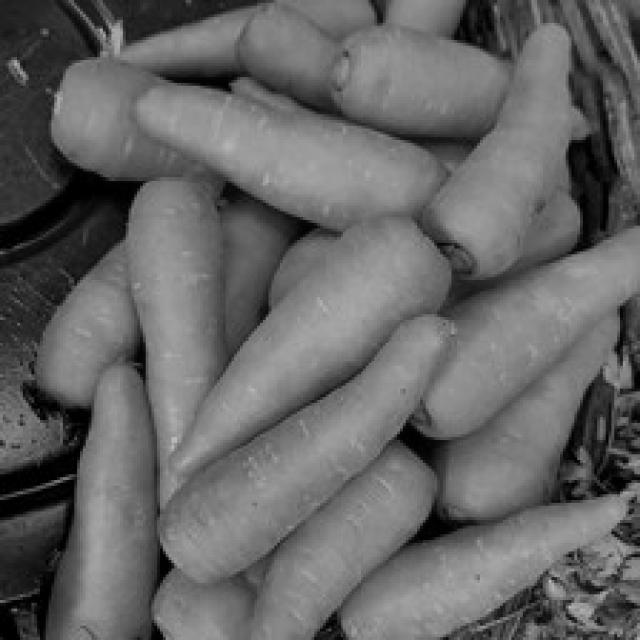Fresh_Carrot: (92, 11, 569, 615)
